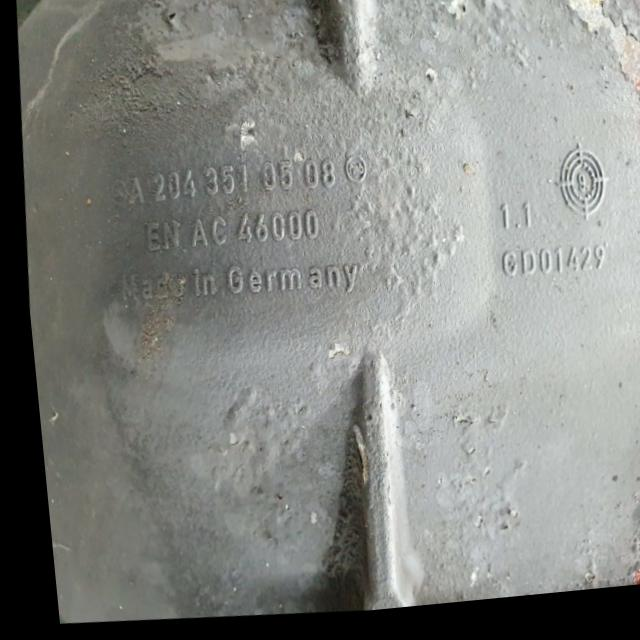ocr: (112, 250, 359, 323), (119, 148, 339, 221), (132, 204, 322, 266), (492, 246, 608, 303), (488, 205, 535, 248)
